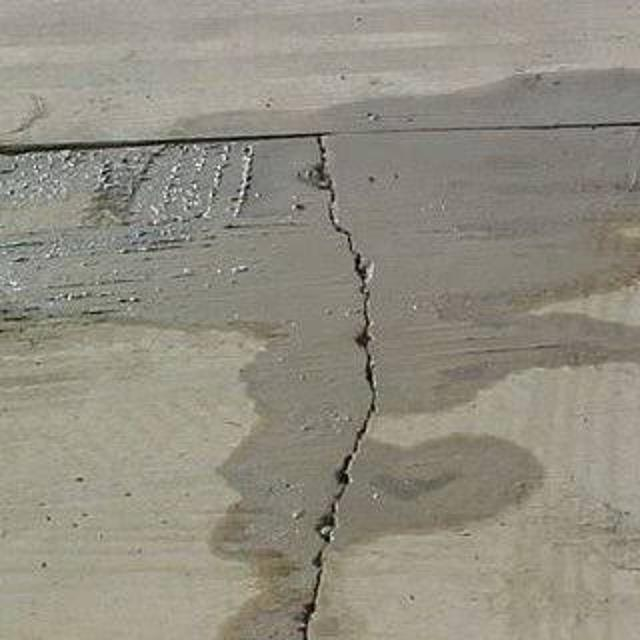Melintang: (0, 101, 640, 167)
Memanjang: (286, 120, 398, 640)
